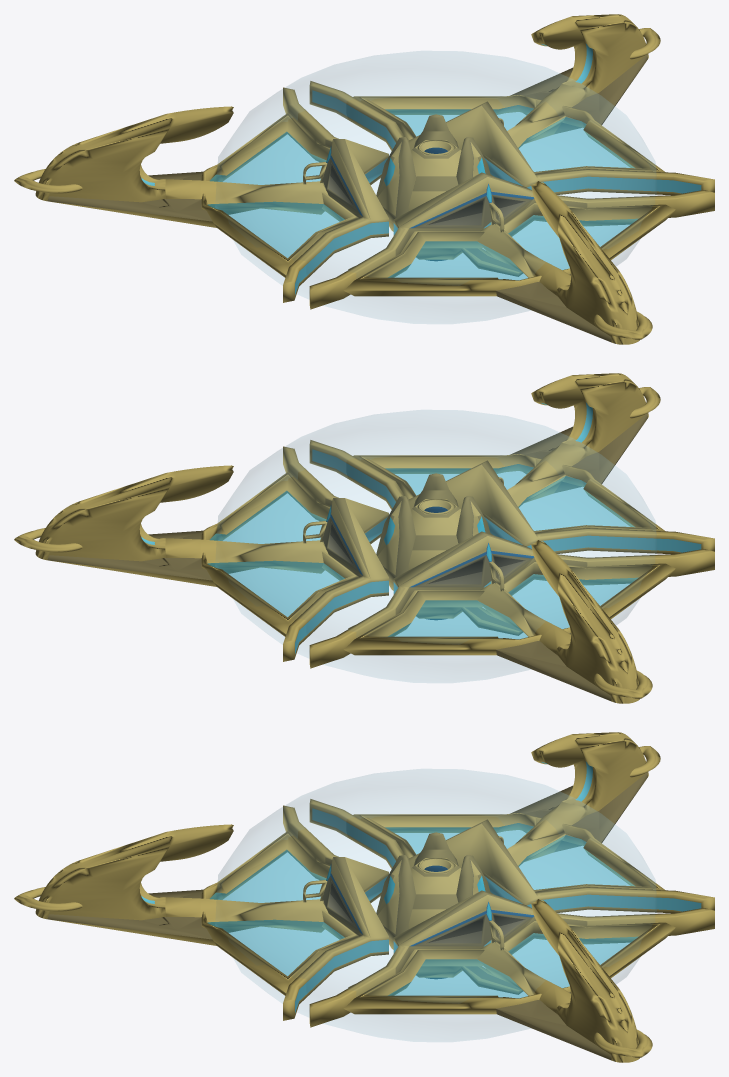
File: protoss.obj
The picture shows the model from 3 angles, top to bottom: view 1: azimuth 30°, elevation 25°; view 2: azimuth 150°, elevation 25°; view 3: azimuth 270°, elevation 25°; orthographic projection.
Visible parts, largest first — view 1: Mesh7 strecha1 Mothership1 Model, Mesh1 kridlo1 Mothership1 Model, Mesh2 kridlo2 Mothership1 Model, Mesh3 kridlo3 Mothership1 Model, Mesh6 lem3 Mothership1 Model, Mesh5 lem2 Mothership1 Model, Mesh4 lem1 Mothership1 Model, Mesh11 Group1 stred1 Mothership1 Model, Mesh14 stredovysloupvelky3 stred1 Mothership1 Model, Mesh13 stredovysloupvelky2 stred1 Mothership1 Model, Mesh8 Group2 Component_1_1 Component_2_1 Group1 stred1 Mothershi, Mesh12 stredovysloupvelky1 stred1 Mothership1 Model; view 2: Mesh7 strecha1 Mothership1 Model, Mesh3 kridlo3 Mothership1 Model, Mesh1 kridlo1 Mothership1 Model, Mesh2 kridlo2 Mothership1 Model, Mesh5 lem2 Mothership1 Model, Mesh4 lem1 Mothership1 Model, Mesh6 lem3 Mothership1 Model, Mesh11 Group1 stred1 Mothership1 Model, Mesh12 stredovysloupvelky1 stred1 Mothership1 Model, Mesh14 stredovysloupvelky3 stred1 Mothership1 Model, Mesh9 Group3 Component_1_2 Component_2_1 Group1 stred1 Mothershi, Mesh13 stredovysloupvelky2 stred1 Mothership1 Model; view 3: Mesh7 strecha1 Mothership1 Model, Mesh2 kridlo2 Mothership1 Model, Mesh3 kridlo3 Mothership1 Model, Mesh1 kridlo1 Mothership1 Model, Mesh4 lem1 Mothership1 Model, Mesh6 lem3 Mothership1 Model, Mesh5 lem2 Mothership1 Model, Mesh11 Group1 stred1 Mothership1 Model, Mesh13 stredovysloupvelky2 stred1 Mothership1 Model, Mesh12 stredovysloupvelky1 stred1 Mothership1 Model, Mesh10 Group4 Component_1_3 Component_2_1 Group1 stred1 Mothersh, Mesh14 stredovysloupvelky3 stred1 Mothership1 Model.
Part boxes in pixels (left/top/right/bottom): Mesh7 strecha1 Mothership1 Model: left=215, top=51, right=656, bottom=323; Mesh1 kridlo1 Mothership1 Model: left=14, top=106, right=358, bottom=277; Mesh2 kridlo2 Mothership1 Model: left=344, top=181, right=675, bottom=344; Mesh3 kridlo3 Mothership1 Model: left=353, top=14, right=665, bottom=174; Mesh6 lem3 Mothership1 Model: left=309, top=81, right=714, bottom=195; Mesh5 lem2 Mothership1 Model: left=309, top=172, right=714, bottom=309; Mesh4 lem1 Mothership1 Model: left=283, top=87, right=388, bottom=302; Mesh11 Group1 stred1 Mothership1 Model: left=389, top=140, right=462, bottom=260; Mesh14 stredovysloupvelky3 stred1 Mothership1 Model: left=376, top=137, right=415, bottom=223; Mesh13 stredovysloupvelky2 stred1 Mothership1 Model: left=456, top=137, right=490, bottom=184; Mesh8 Group2 Component_1_1 Component_2_1 Group1 stred1 Mothershi: left=461, top=248, right=522, bottom=276; Mesh12 stredovysloupvelky1 stred1 Mothership1 Model: left=414, top=114, right=458, bottom=148; Mesh7 strecha1 Mothership1 Model: left=215, top=410, right=656, bottom=682; Mesh3 kridlo3 Mothership1 Model: left=14, top=465, right=358, bottom=636; Mesh1 kridlo1 Mothership1 Model: left=344, top=540, right=675, bottom=703; Mesh2 kridlo2 Mothership1 Model: left=353, top=373, right=665, bottom=533; Mesh5 lem2 Mothership1 Model: left=309, top=440, right=714, bottom=554; Mesh4 lem1 Mothership1 Model: left=309, top=531, right=714, bottom=668; Mesh6 lem3 Mothership1 Model: left=283, top=446, right=388, bottom=661; Mesh11 Group1 stred1 Mothership1 Model: left=389, top=499, right=462, bottom=619; Mesh12 stredovysloupvelky1 stred1 Mothership1 Model: left=376, top=496, right=415, bottom=582; Mesh14 stredovysloupvelky3 stred1 Mothership1 Model: left=456, top=496, right=490, bottom=543; Mesh9 Group3 Component_1_2 Component_2_1 Group1 stred1 Mothershi: left=461, top=607, right=522, bottom=635; Mesh13 stredovysloupvelky2 stred1 Mothership1 Model: left=413, top=473, right=458, bottom=506; Mesh7 strecha1 Mothership1 Model: left=215, top=769, right=656, bottom=1041; Mesh2 kridlo2 Mothership1 Model: left=14, top=824, right=358, bottom=995; Mesh3 kridlo3 Mothership1 Model: left=344, top=899, right=675, bottom=1062; Mesh1 kridlo1 Mothership1 Model: left=353, top=732, right=665, bottom=892; Mesh4 lem1 Mothership1 Model: left=309, top=799, right=714, bottom=913; Mesh6 lem3 Mothership1 Model: left=309, top=890, right=714, bottom=1027; Mesh5 lem2 Mothership1 Model: left=283, top=805, right=388, bottom=1020; Mesh11 Group1 stred1 Mothership1 Model: left=389, top=858, right=462, bottom=978; Mesh13 stredovysloupvelky2 stred1 Mothership1 Model: left=376, top=855, right=415, bottom=941; Mesh12 stredovysloupvelky1 stred1 Mothership1 Model: left=456, top=855, right=490, bottom=902; Mesh10 Group4 Component_1_3 Component_2_1 Group1 stred1 Mothersh: left=461, top=966, right=522, bottom=994; Mesh14 stredovysloupvelky3 stred1 Mothership1 Model: left=414, top=832, right=458, bottom=865.
Bounding box in the file's own units: 41.8 × 12.57 × 40.02.
